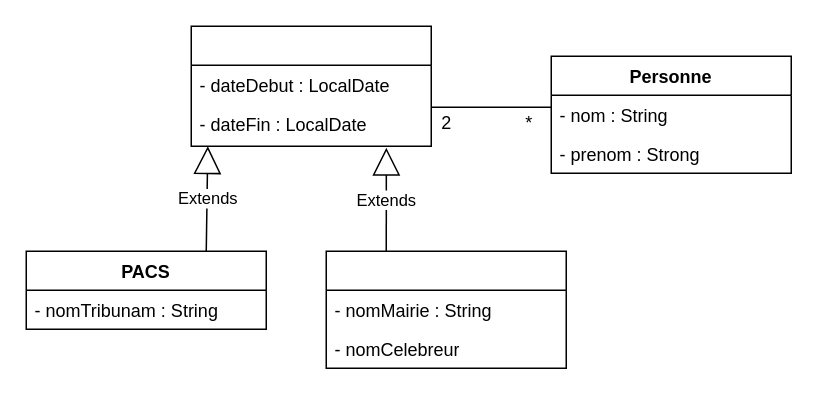
Some shapes in this 818 by 399 pixel diagram are drawn without their labels. The shapes that lost their labels are listed below. From the top down, each one's box as (x1, y1, x2, y2) in pixels, then its label:
(190, 25, 431, 146): Contrat
(325, 250, 566, 368): Mariage
